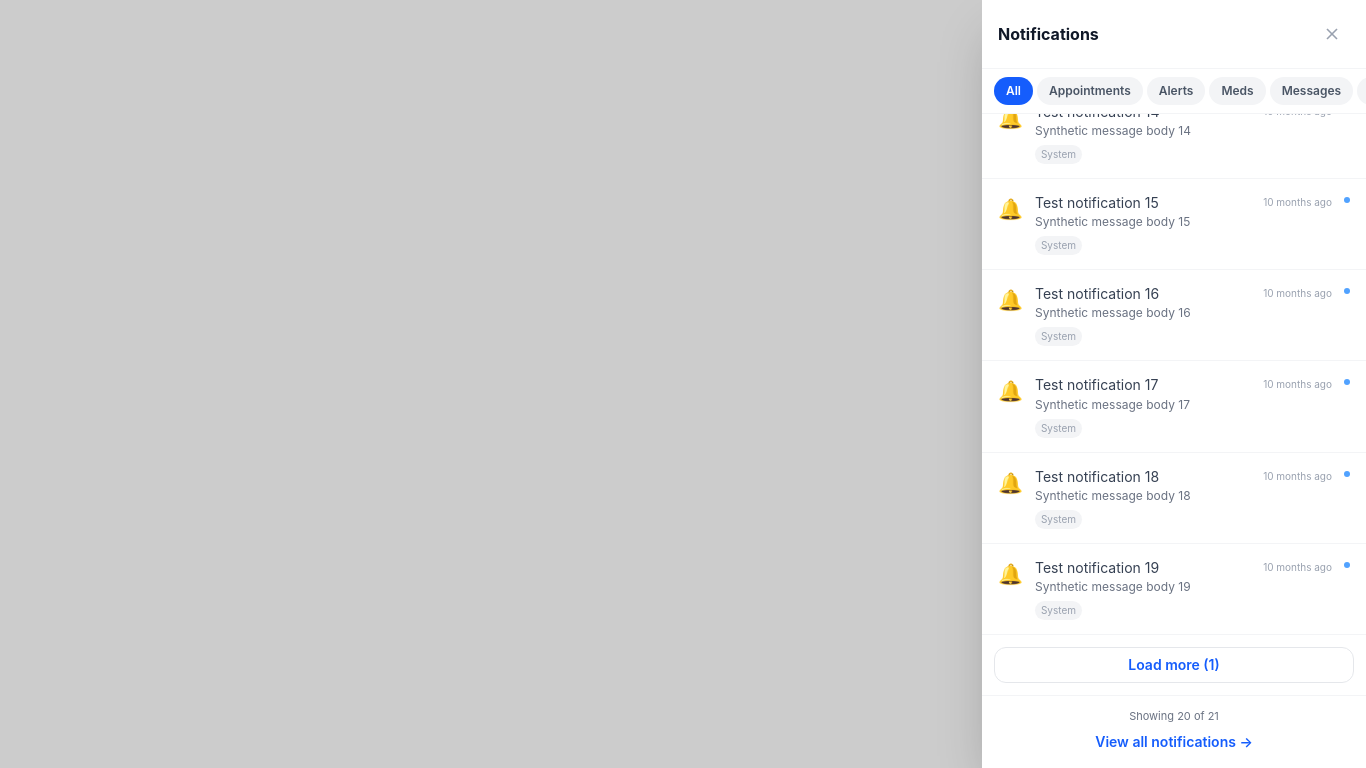
Test: NotificationCenter pagination boundaries › renders a load more control at one over a page and exhausts it in one click
(page scrolled)
Click the button "Load more (1)" at (1174, 665), box [994, 647, 1354, 683]
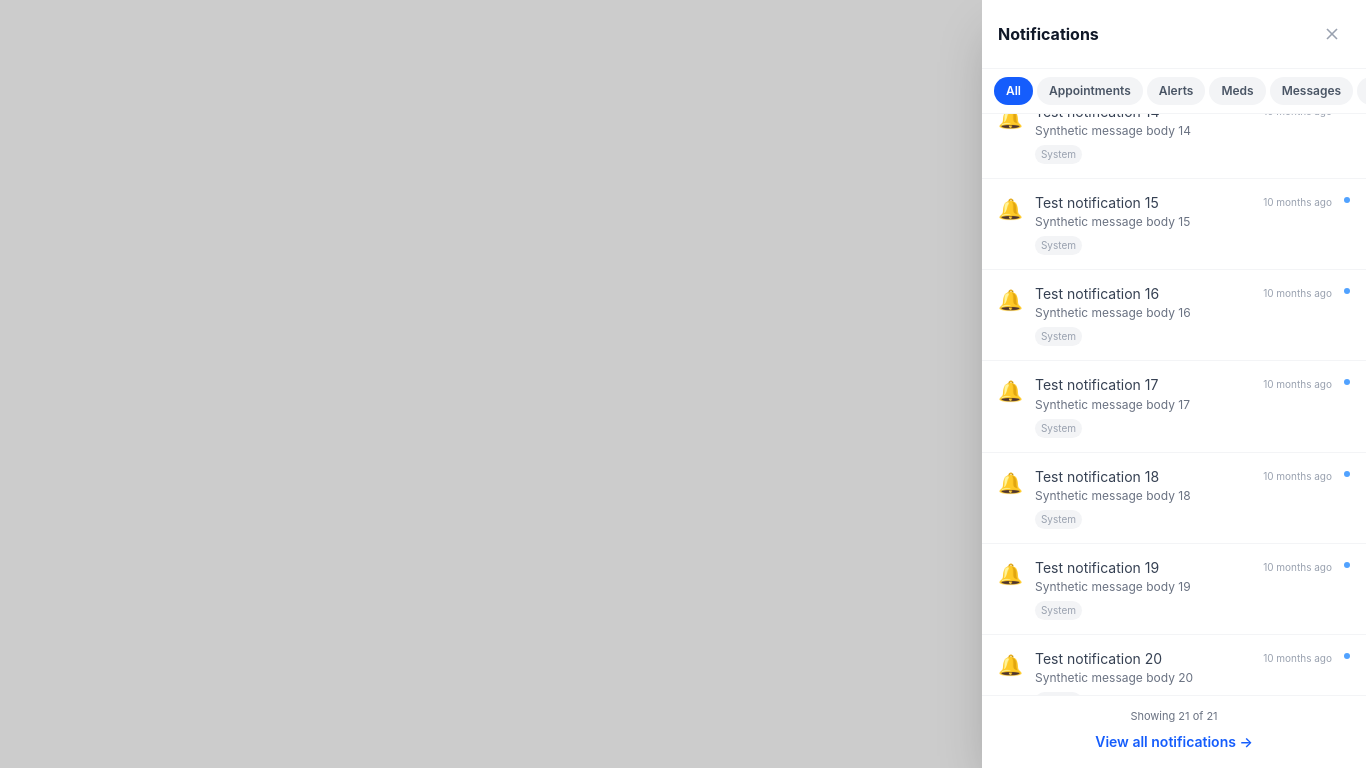
Expected: the button "Load more" is gone
